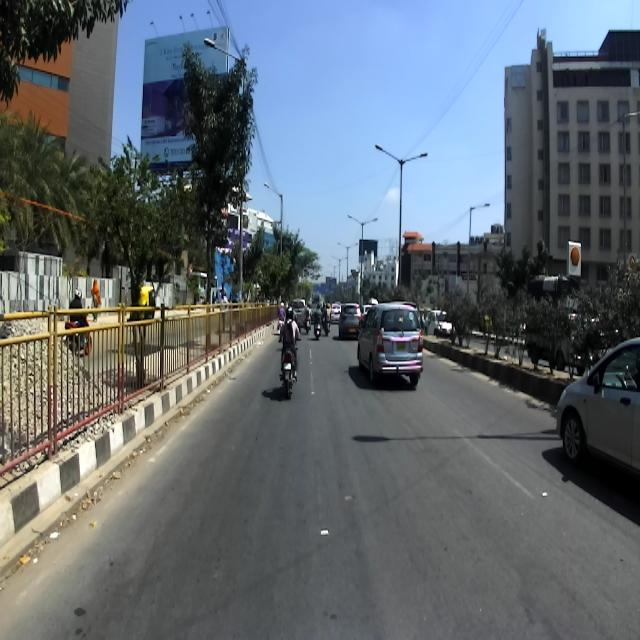car ahead at: (555, 331, 640, 493), (358, 303, 426, 381)
motorcycle ahead at: (278, 340, 300, 406)
